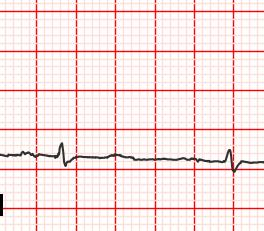Poor R Progression: (54, 136, 69, 159), (221, 143, 235, 165)
